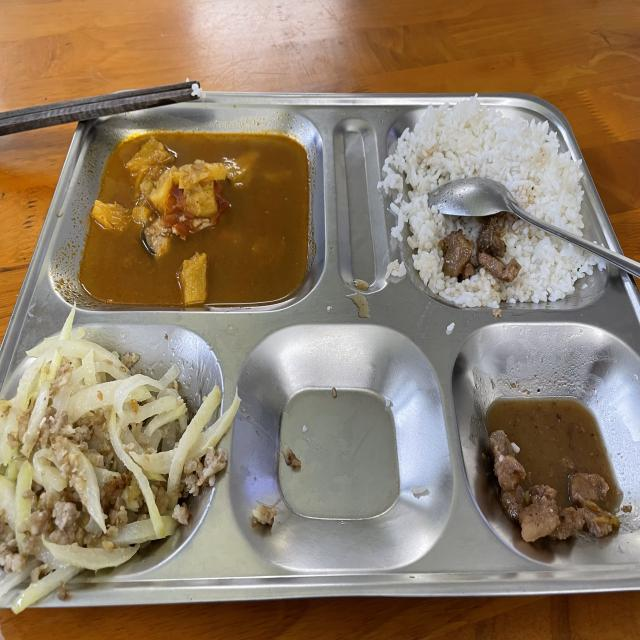thit_kho: (471, 365, 631, 551)
